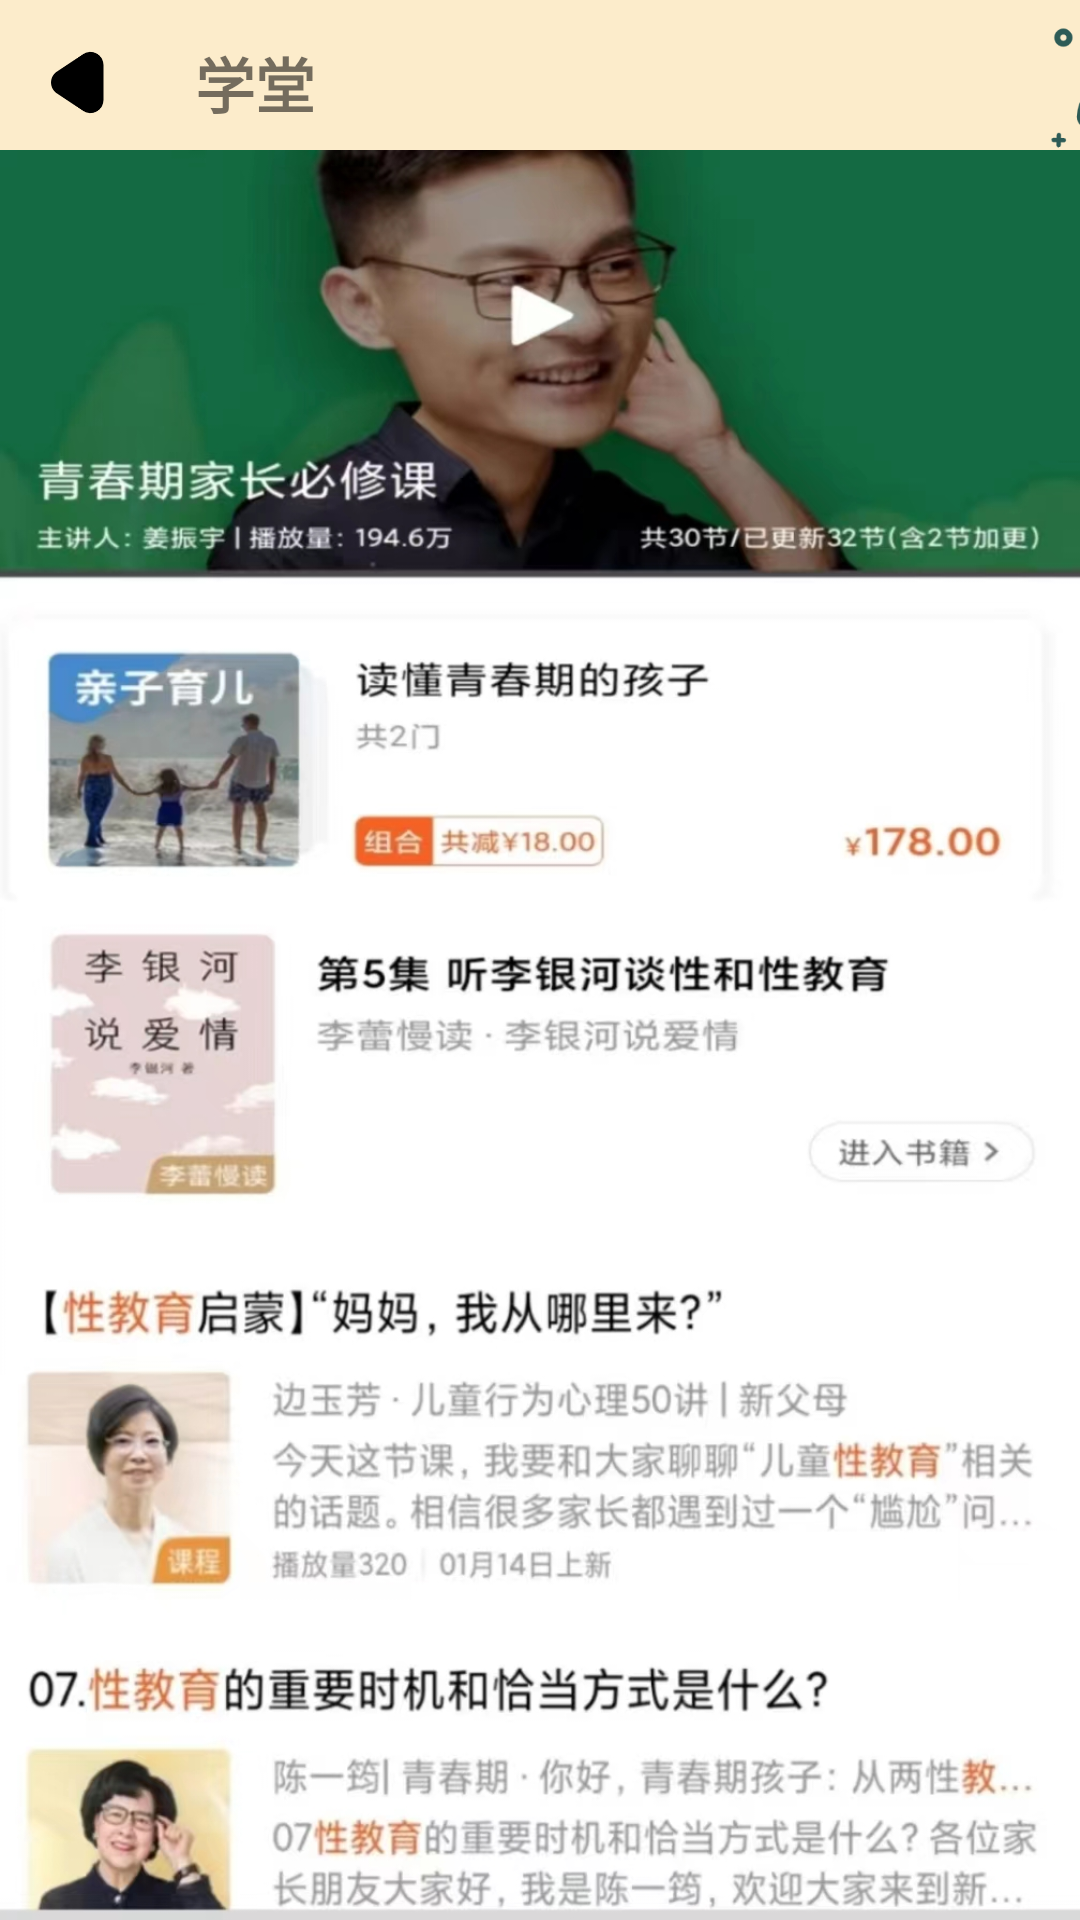

Screen size 1080px×1920px. Icon name, then its box in pixels as (x1, y1, x2, y2):
gyx leftarrow: (51, 52, 104, 113)
